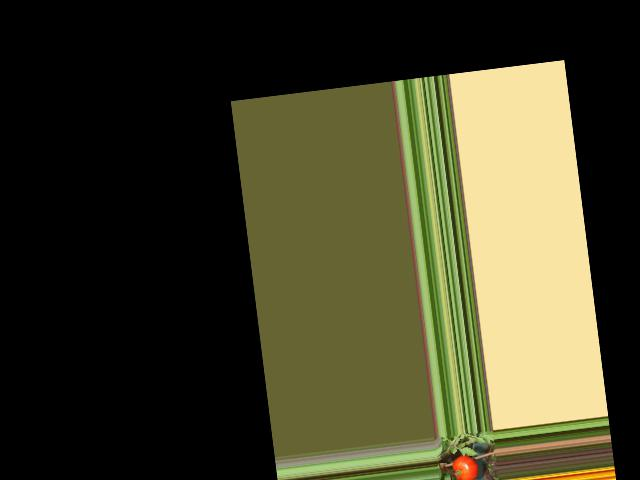tomato: (451, 453, 479, 480)
